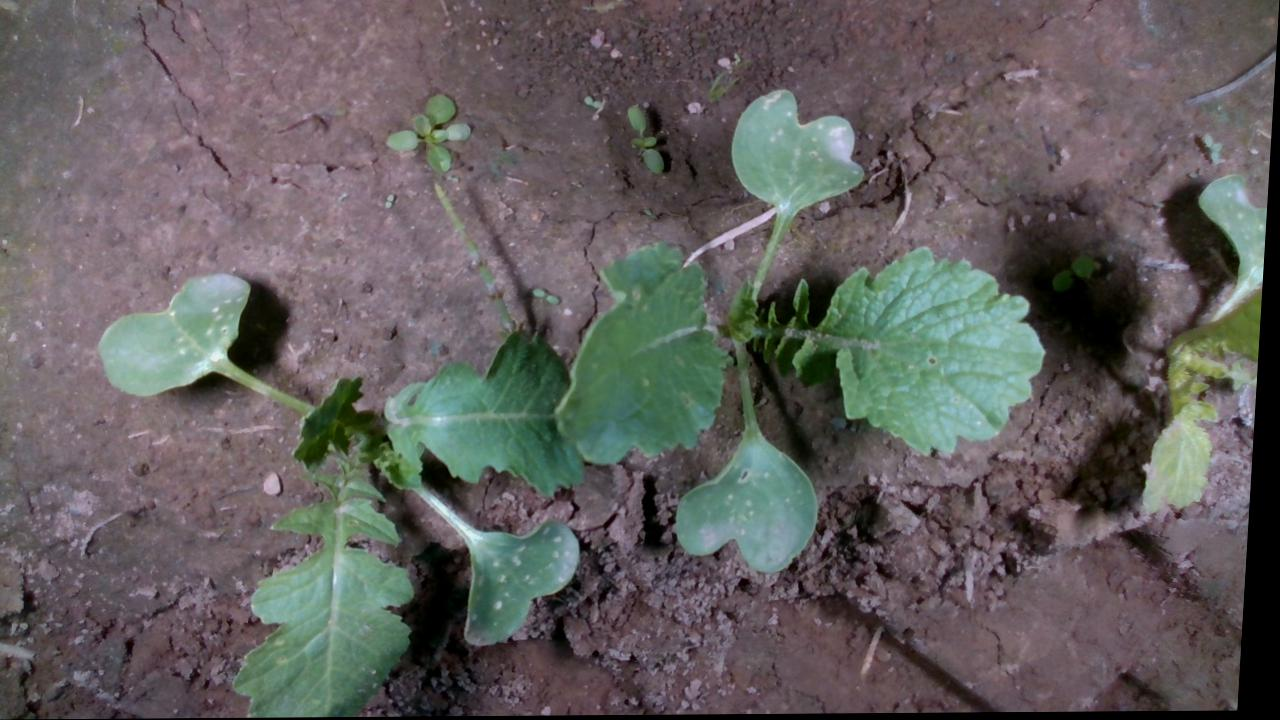weed: (386, 90, 476, 174), (624, 103, 669, 178), (1052, 254, 1099, 296), (584, 94, 606, 111)
